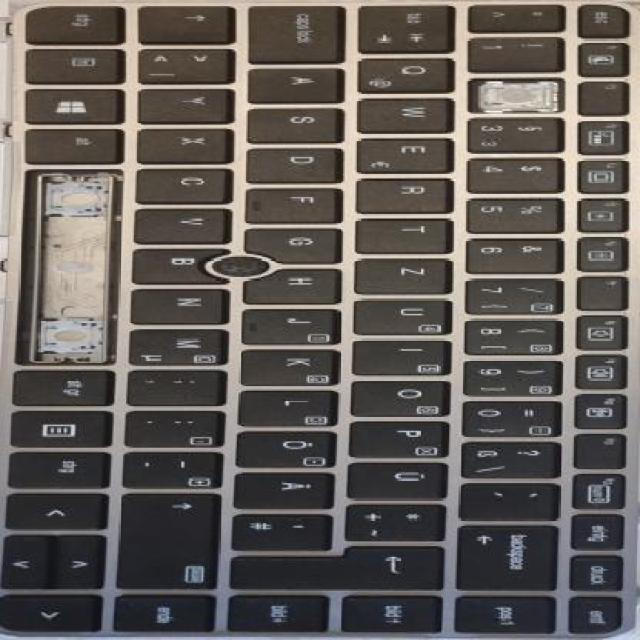Keyboard problems: (15, 171, 120, 363), (471, 80, 558, 112)
